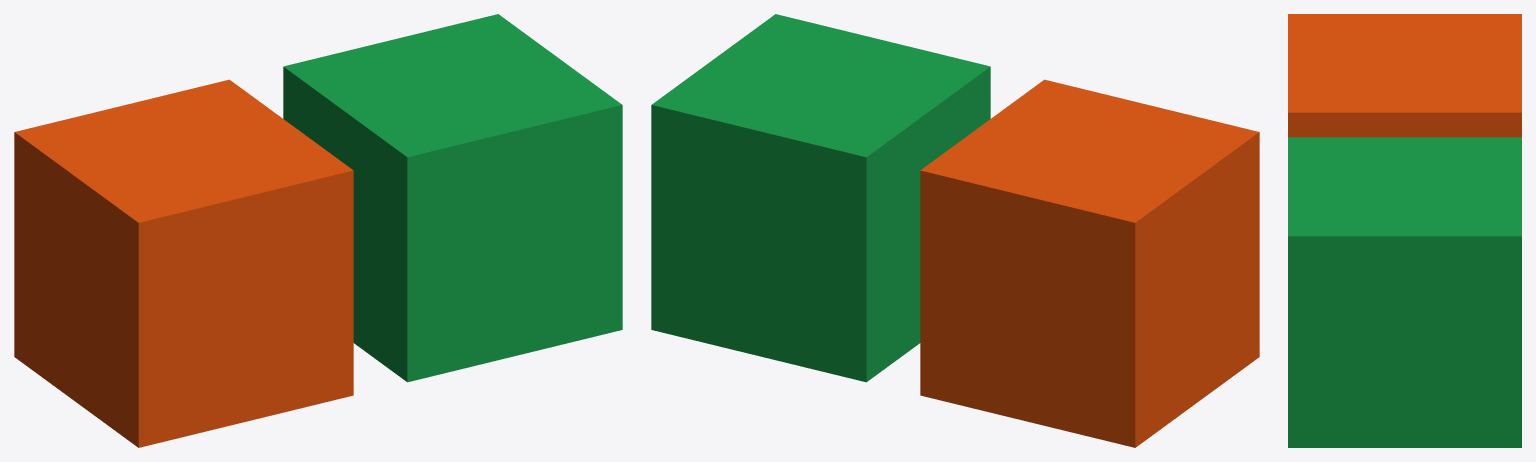
The model's file is blocks.obj.
The picture shows the model from 3 angles, left to right: view 1: azimuth 30°, elevation 25°; view 2: azimuth 150°, elevation 25°; view 3: azimuth 270°, elevation 25°; orthographic projection. The views are drawn at different scales.
Visible parts, largest first — view 1: Left, Right; view 2: Left, Right; view 3: Right, Left.
Part boxes in pixels (x1,y1,x2,y2): Left: (14, 79, 353, 447); Right: (283, 14, 622, 382); Left: (920, 79, 1259, 447); Right: (651, 14, 990, 382); Right: (1288, 137, 1521, 447); Left: (1288, 14, 1521, 137).
Size of the model in its own units: 1.8 by 0.8 by 0.8.
Materials: 2 (2 with a texture image).
